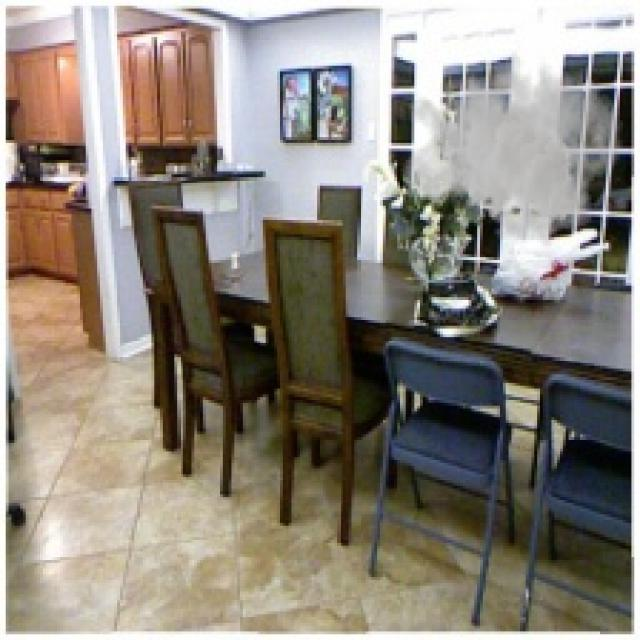smoke: (400, 40, 623, 249)
